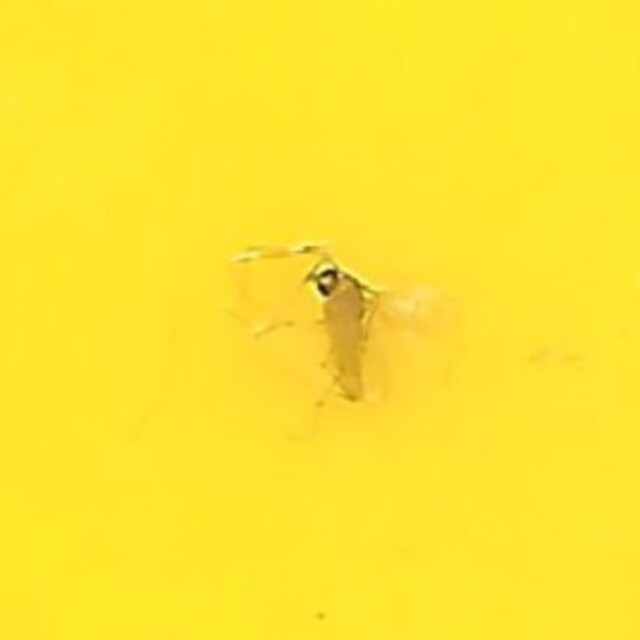Nematocera: (239, 230, 401, 410)
